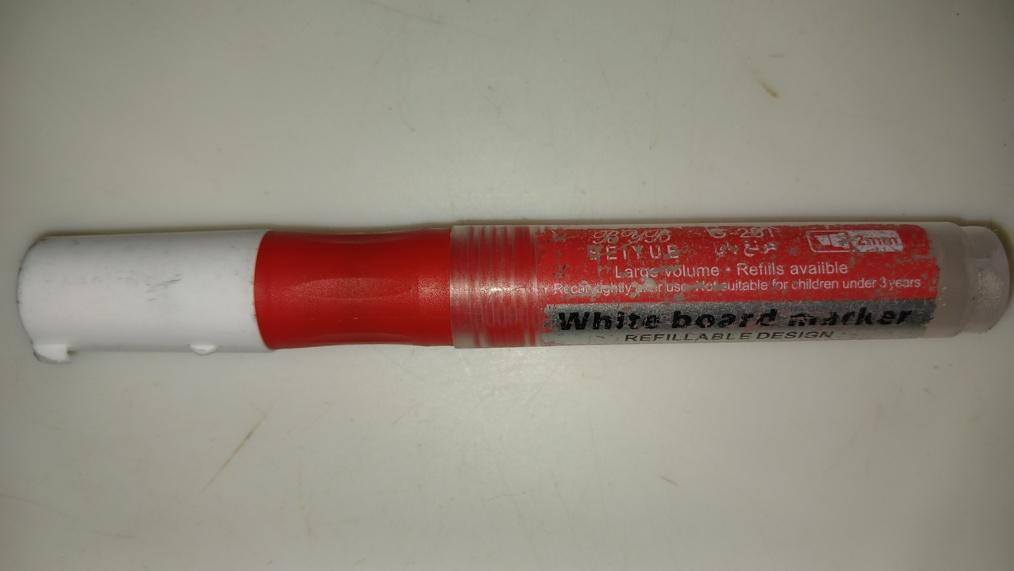Whiteboard marker: (14, 225, 1014, 358)
